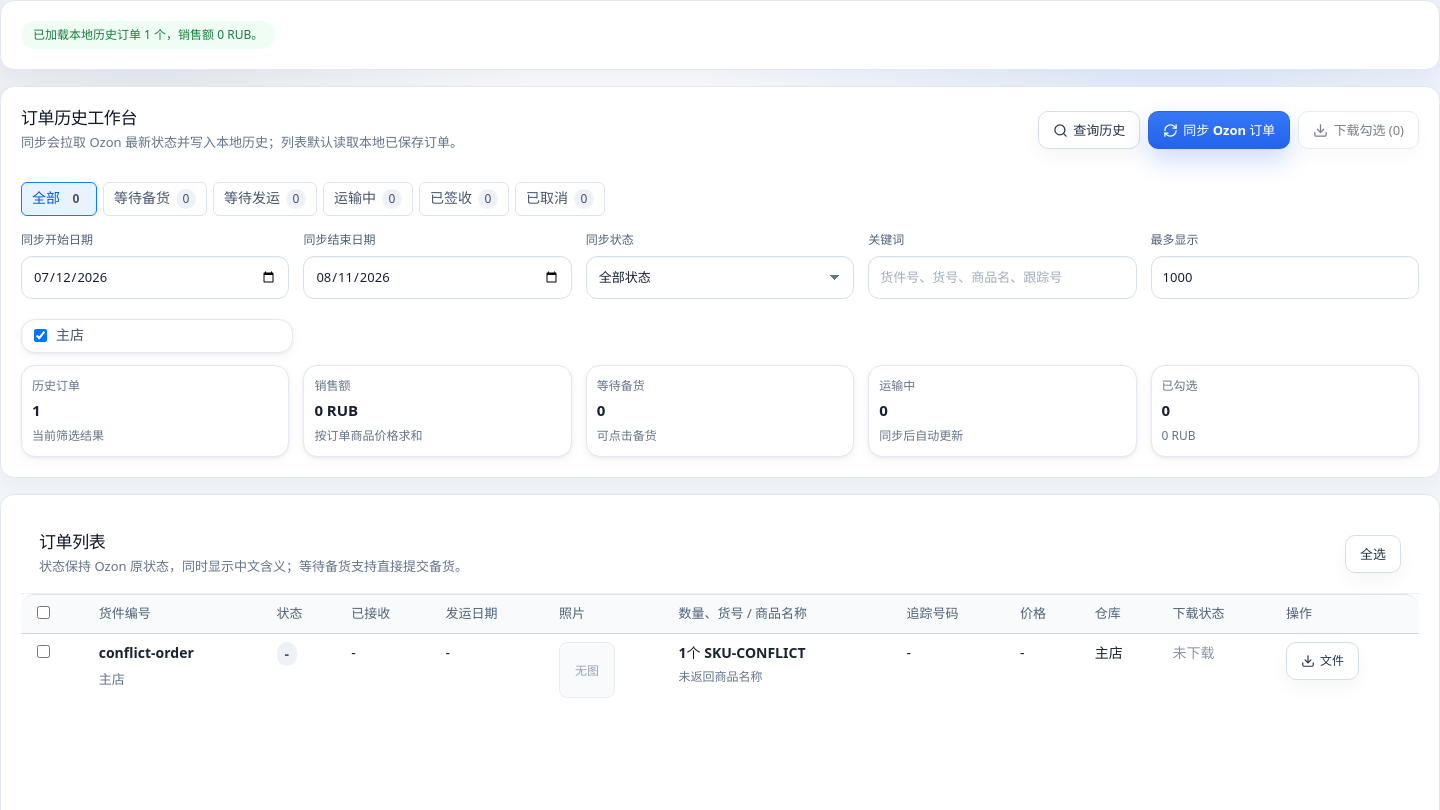
Test: OrdersPage › stops downloading when reserving logistics URLs fails for a real conflict
Click the button with class "secondary-button" showing "文件". click: [1322, 661]
box: [1286,642,1359,680]
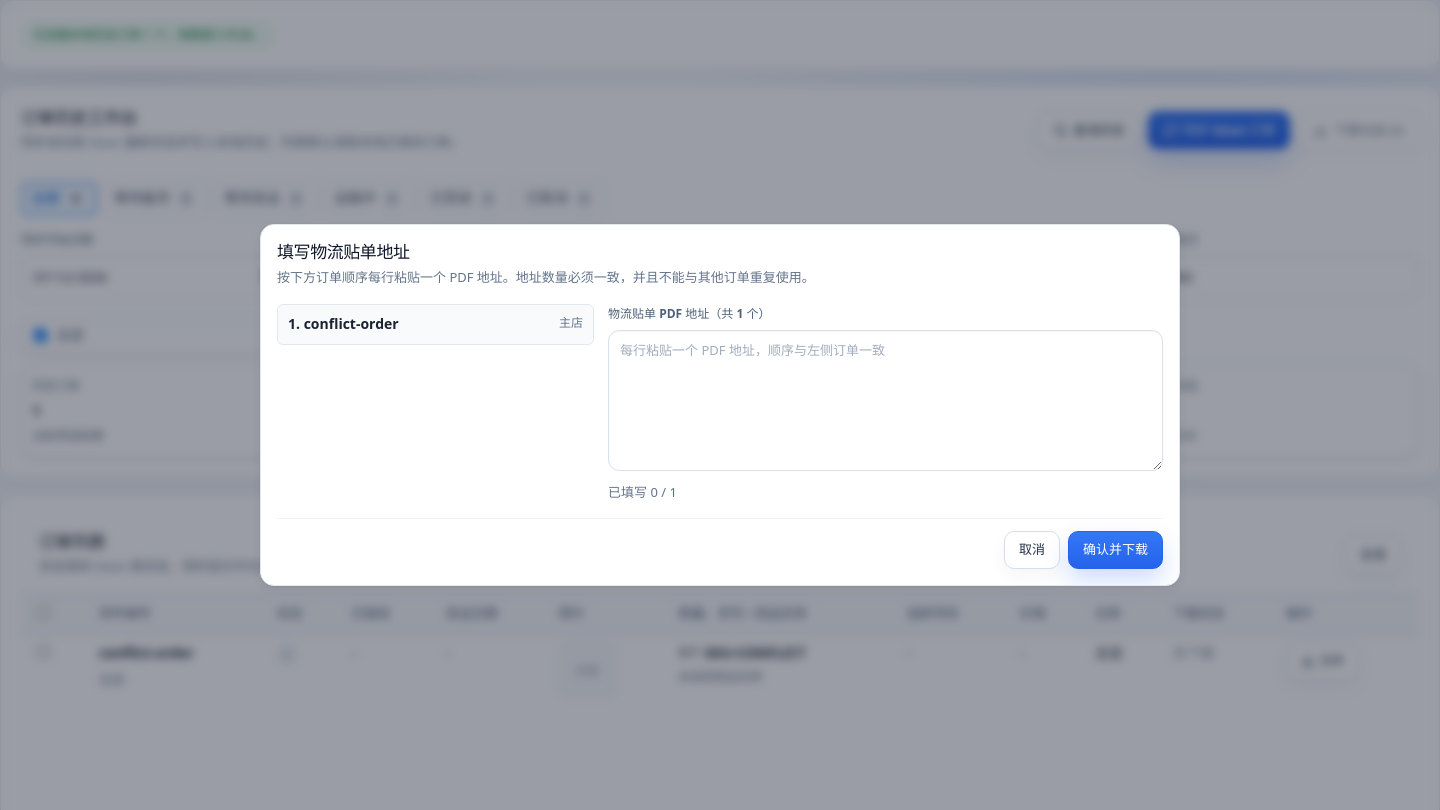
Type "https://labels.example.test/conflict.pdf" into the text box with placeholder "每行粘贴一个 PDF 地址，顺序与左侧订单一致". click: [886, 401]
box: [608,330,1163,471]
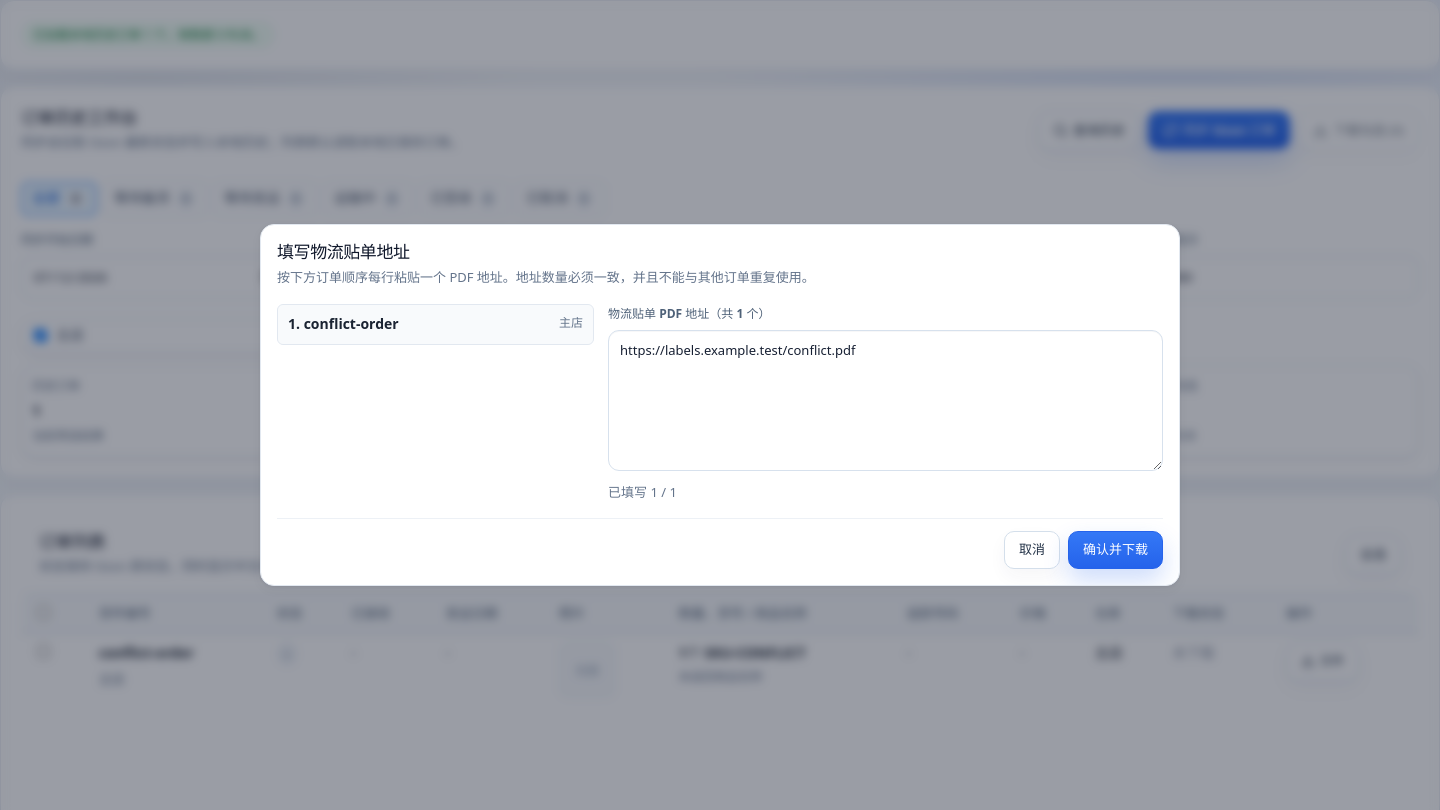
Click the button "确认并下载". click: [1116, 550]
box: [1068,531,1163,569]
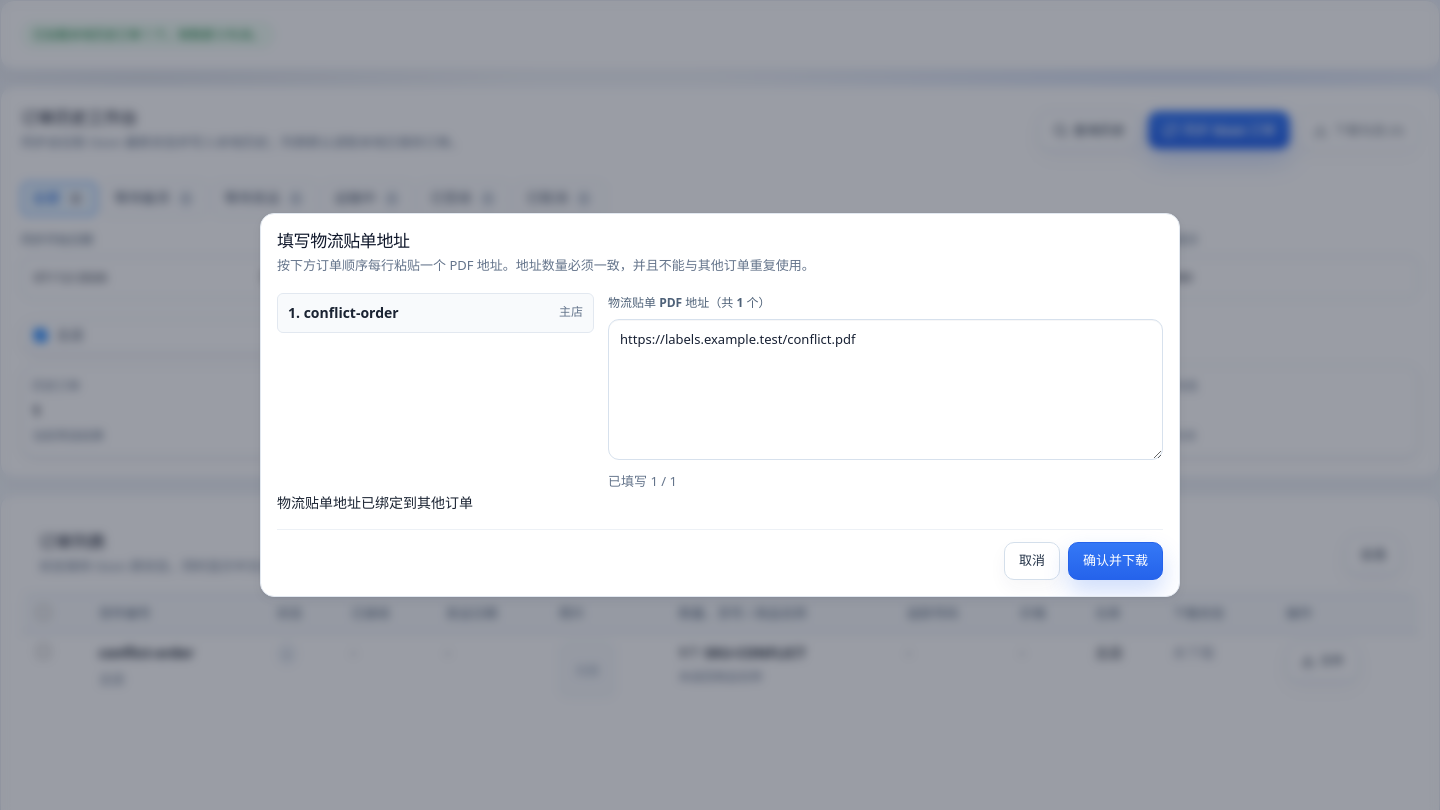
Result: the text "物流贴单地址已绑定到其他订单" is shown at [277,493,473,512]
